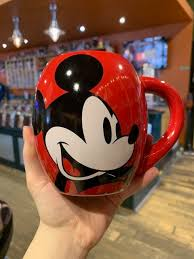mug: (24, 43, 184, 215)
